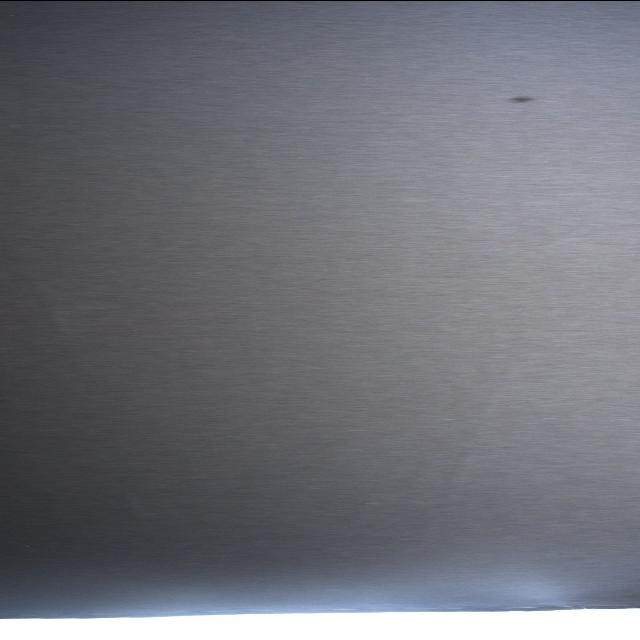crease: (389, 342, 543, 528), (8, 252, 112, 411)
whiteDefect: (5, 122, 34, 129), (356, 501, 390, 505)
